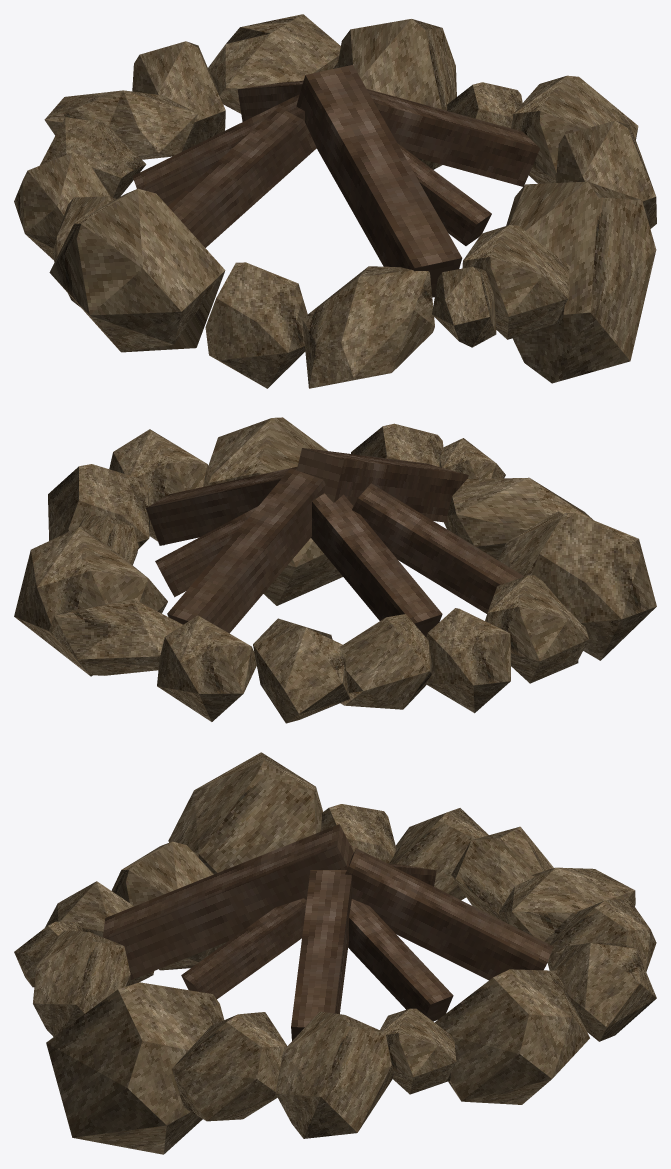
Rendered from Campfire.fbx.
3 renders of one model, top to bottom at view 1: azimuth 30°, elevation 25°; view 2: azimuth 150°, elevation 25°; view 3: azimuth 270°, elevation 25°, orthographic. The views are drawn at different scales.
Visible parts, largest first — view 1: Campfire; view 2: Campfire; view 3: Campfire.
Part boxes in pixels (x1,y1,x2,y2): Campfire: (14,14,656,388); Campfire: (14,417,656,723); Campfire: (14,752,656,1154).
Bounding box in the file's own units: 243 × 101 × 233.
Materials: 2 (2 with a texture image).
